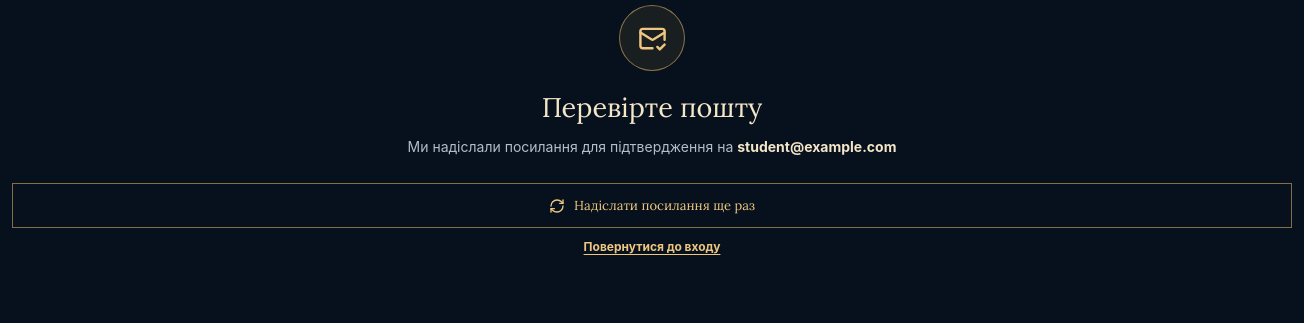
Test: CheckEmailPage › sends a new link and replaces the local deadline
Click the button "Надіслати посилання ще раз".
click(652, 206)  # box [12,183,1292,228]
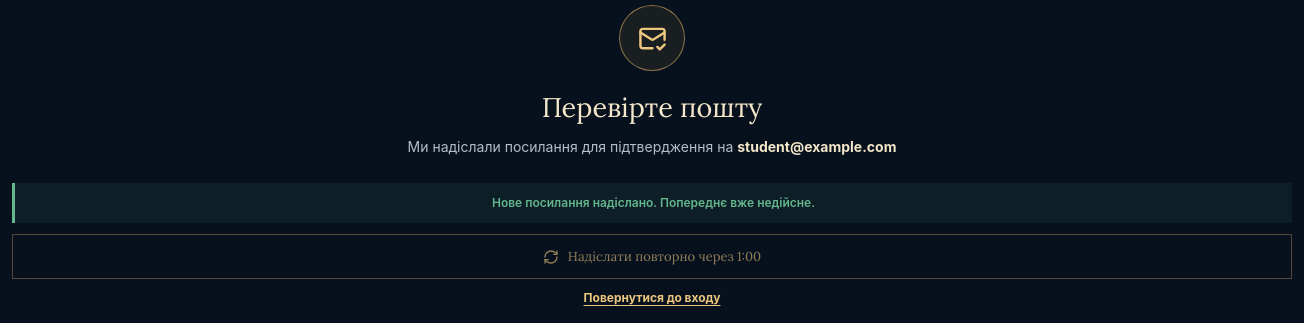
Result: the text "Нове посилання надіслано. Попереднє вже недійсне." is shown at [12,183,1292,223]
